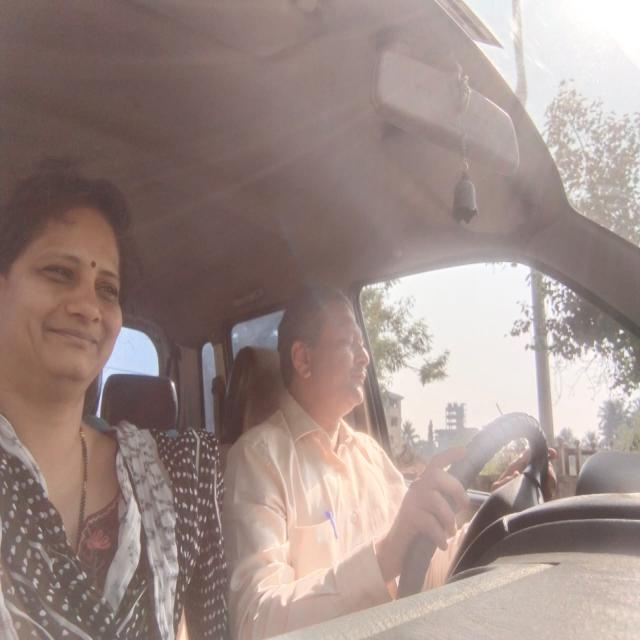person: (4, 144, 142, 424), (267, 247, 397, 428)
